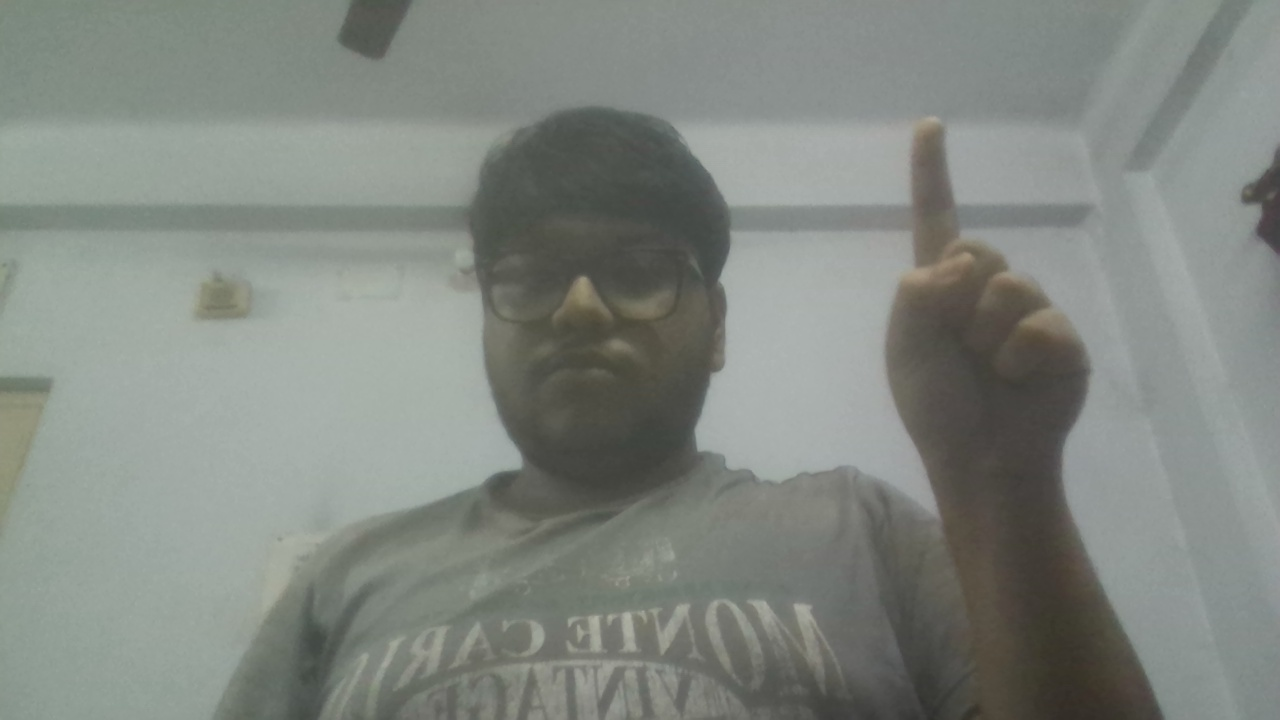Gesture1: (873, 106, 1103, 501)
